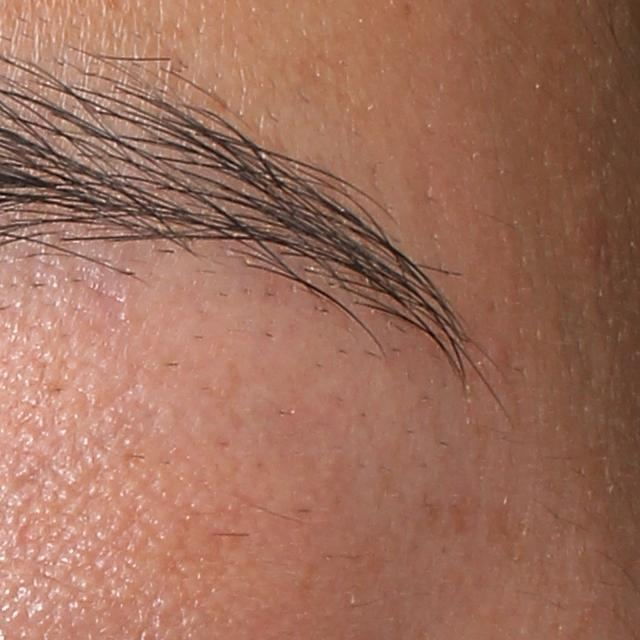melasma: (483, 496, 530, 568), (443, 491, 477, 543)
